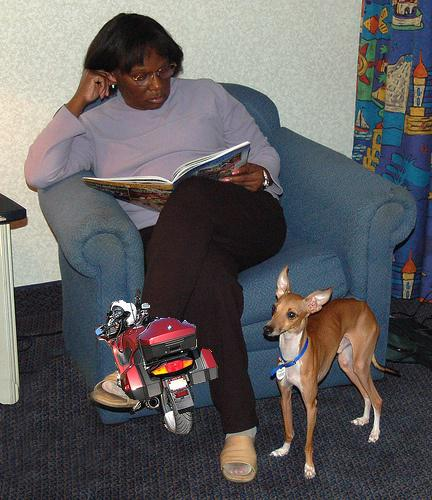tampered: (95, 290, 218, 434)
